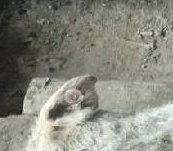text: (55, 80, 93, 113)
